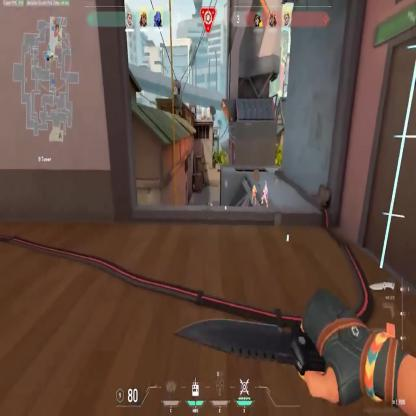enemy: (260, 181, 268, 207), (250, 184, 256, 205)
enemy_head: (264, 182, 266, 186), (253, 184, 255, 187)
